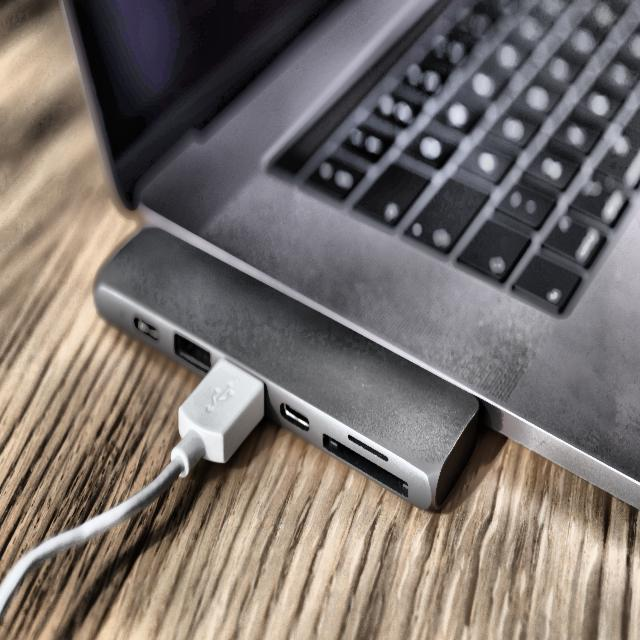HUB: (0, 226, 480, 617)
